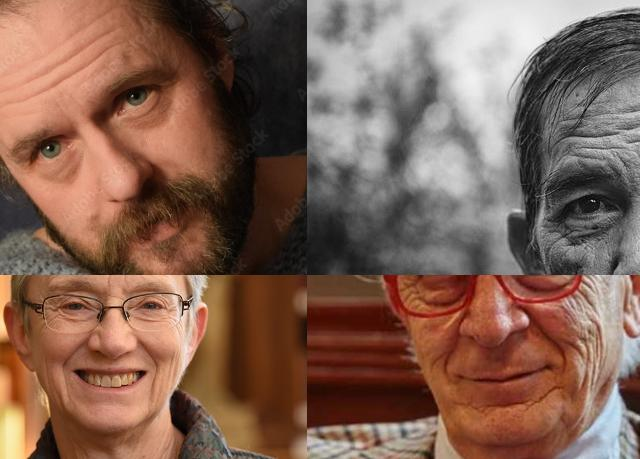chin: (482, 398, 536, 416), (538, 377, 564, 411)
crows_feet: (544, 216, 572, 244), (399, 280, 421, 310), (578, 275, 598, 299), (44, 300, 58, 322), (165, 302, 178, 324)
forehead: (554, 118, 616, 146), (70, 38, 104, 74), (84, 9, 122, 35), (36, 59, 66, 91), (0, 80, 32, 109)
frown_line: (103, 275, 113, 290), (121, 275, 131, 287), (635, 155, 640, 178)
gummy_smile: (530, 316, 566, 356), (58, 332, 88, 366), (442, 327, 461, 374), (137, 337, 161, 367)
masseter: (574, 336, 606, 388), (166, 348, 180, 380), (41, 356, 53, 390)
sad_smile: (60, 371, 74, 400), (148, 374, 160, 406)
